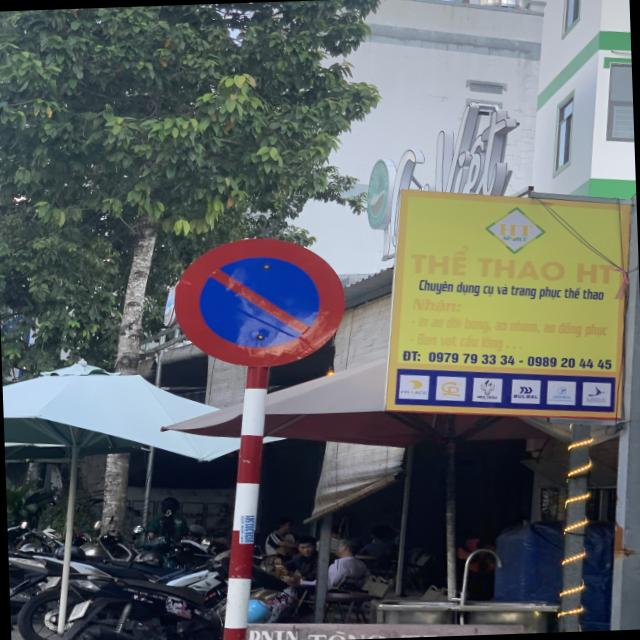Cam_Dau_Xe: (172, 234, 350, 369)
